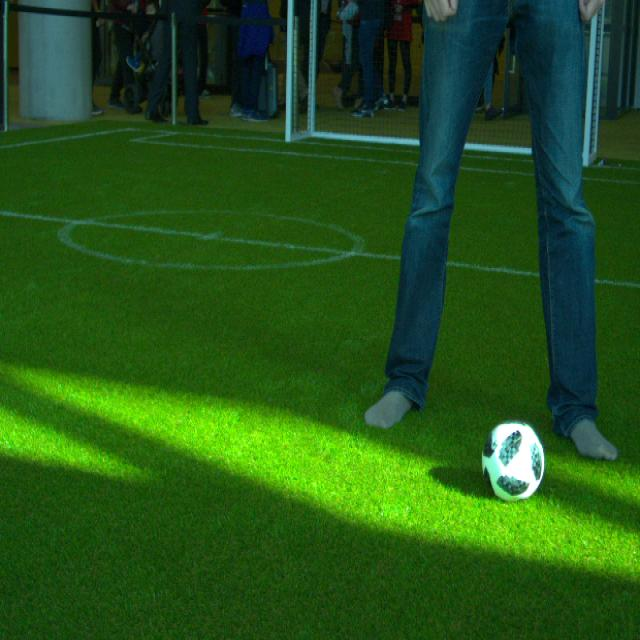ball: (481, 422, 545, 502)
goalpost: (582, 12, 598, 169), (283, 0, 293, 143)
